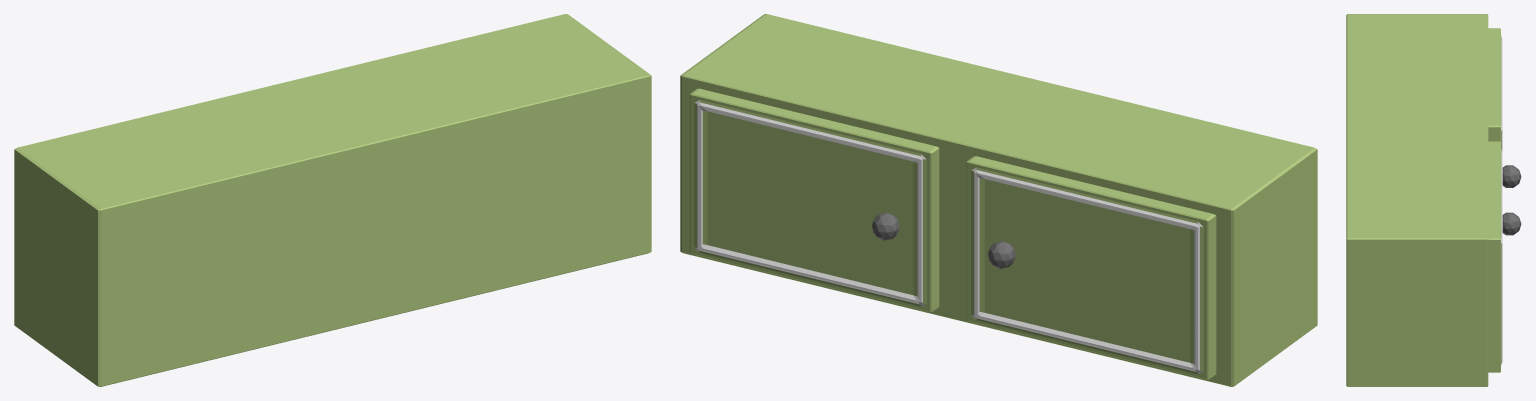
The model's file is lemari.obj.
3 renders of one model, left to right at view 1: azimuth 30°, elevation 25°; view 2: azimuth 150°, elevation 25°; view 3: azimuth 270°, elevation 25°, orthographic. The views are drawn at different scales.
Visible parts, largest first — view 1: Wall_shelf_Icosphere.005; view 2: Wall_shelf_Icosphere.005; view 3: Wall_shelf_Icosphere.005.
Part boxes in pixels (bbox=[...]): Wall_shelf_Icosphere.005: bbox=[14, 14, 651, 386]; Wall_shelf_Icosphere.005: bbox=[680, 14, 1317, 386]; Wall_shelf_Icosphere.005: bbox=[1346, 14, 1521, 386].
Size of the model in its own units: 3.72 by 1.14 by 1.22.
